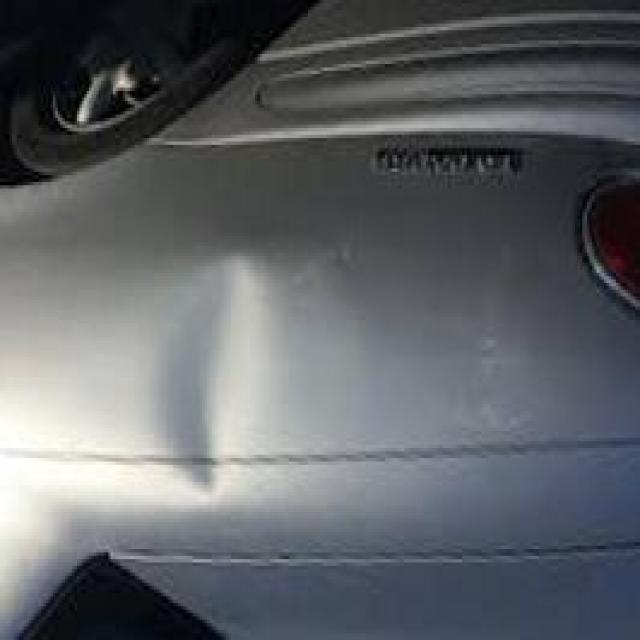dent: (131, 232, 290, 549)
